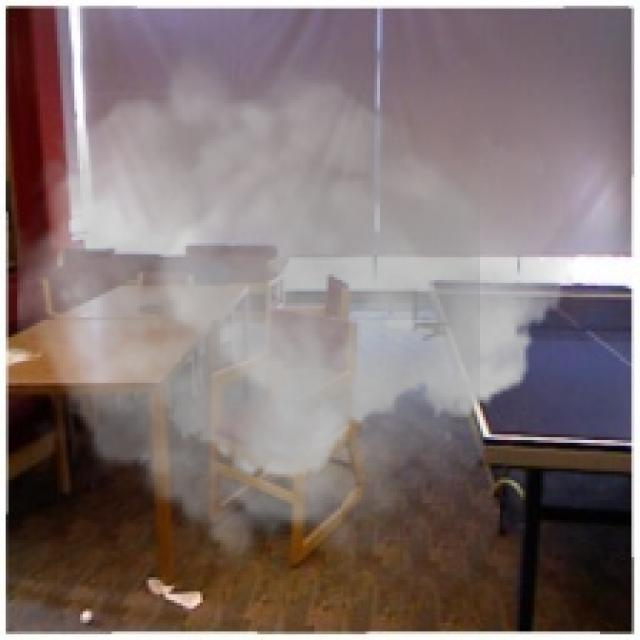smoke: (17, 34, 574, 577)
